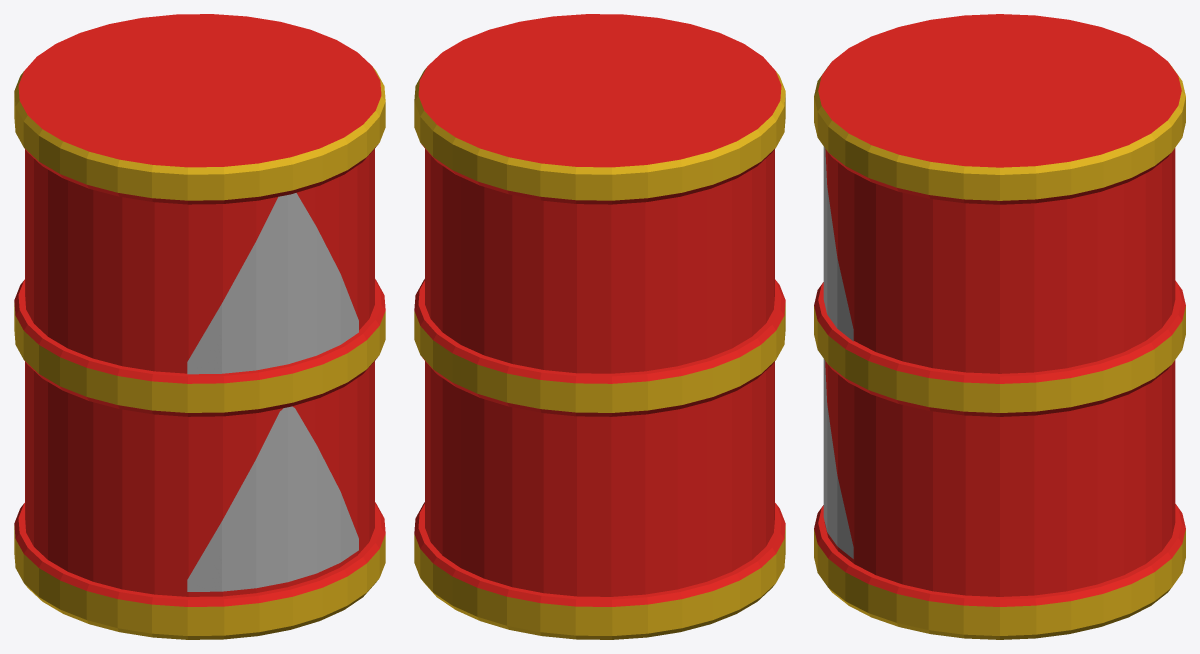
The model's file is barrel_explosion.fbx.
3 renders of one model, left to right at view 1: azimuth 30°, elevation 25°; view 2: azimuth 150°, elevation 25°; view 3: azimuth 270°, elevation 25°, orthographic.
Visible parts, largest first — view 1: varil, polySurface1_cell.003, polySurface1_cell.007, polySurface1_cell.005, polySurface1_cell.002, polySurface1_cell.009, polySurface1_cell.006, polySurface1_cell.001, polySurface1_cell.004, polySurface1_cell; view 2: varil, polySurface1_cell.004, polySurface1_cell.008, polySurface1_cell.001, polySurface1_cell.002, polySurface1_cell.009, polySurface1_cell.003, polySurface1_cell.007; view 3: varil, polySurface1_cell.006, polySurface1_cell.008, polySurface1_cell.005, polySurface1_cell.004, polySurface1_cell.002, polySurface1_cell.009.
Part boxes in pixels (x1,y1,x2,y2): varil: (14, 14, 385, 639); polySurface1_cell.003: (23, 254, 279, 520); polySurface1_cell.007: (28, 86, 188, 327); polySurface1_cell.005: (188, 81, 385, 279); polySurface1_cell.002: (191, 14, 379, 82); polySurface1_cell.009: (23, 14, 270, 114); polySurface1_cell.006: (352, 206, 379, 529); polySurface1_cell.001: (14, 469, 93, 622); polySurface1_cell.004: (14, 251, 32, 488); polySurface1_cell: (293, 264, 361, 527); varil: (414, 14, 785, 636); polySurface1_cell.004: (415, 248, 738, 588); polySurface1_cell.008: (414, 374, 664, 639); polySurface1_cell.001: (661, 491, 774, 634); polySurface1_cell.002: (418, 35, 542, 310); polySurface1_cell.009: (449, 65, 657, 254); polySurface1_cell.003: (719, 223, 776, 506); polySurface1_cell.007: (637, 73, 784, 360); varil: (814, 14, 1185, 639); polySurface1_cell.006: (840, 252, 1069, 574); polySurface1_cell.008: (886, 423, 1185, 639); polySurface1_cell.005: (814, 63, 949, 263); polySurface1_cell.004: (1072, 188, 1185, 452); polySurface1_cell.002: (946, 124, 1160, 381); polySurface1_cell.009: (980, 34, 1181, 124).
Bounding box in the file's own units: 313 × 438 × 313.
